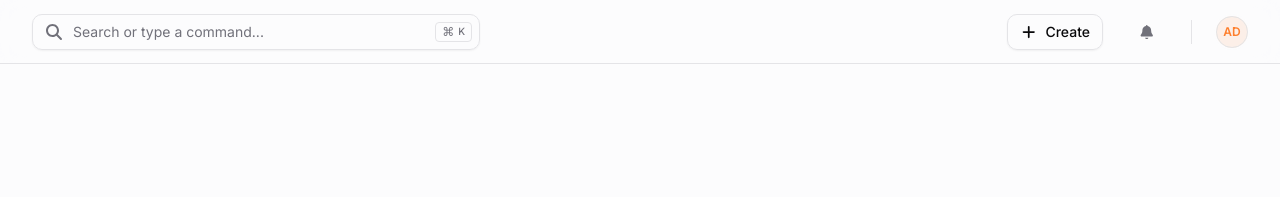
it: TopNav Component › hides New Employee option for Employee role
The width and height of the screenshot is (1280, 197).
Open dropdown
What coordinates should you click on to do the following:
click the button "Create"
I would click on:
 (1055, 32)
Its box is [1007,14,1103,50].
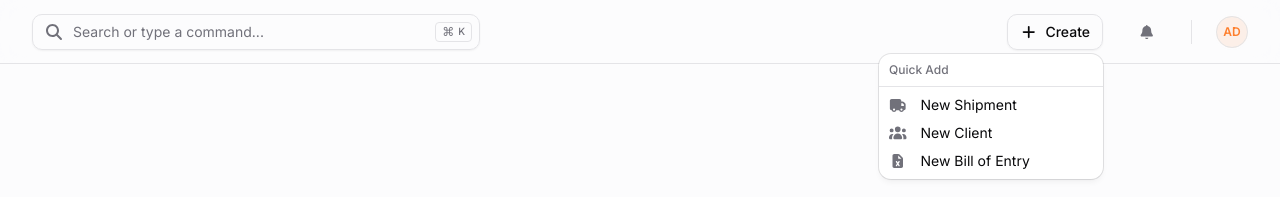
Expected: the text "New Client" is shown, [920,123,992,143]
